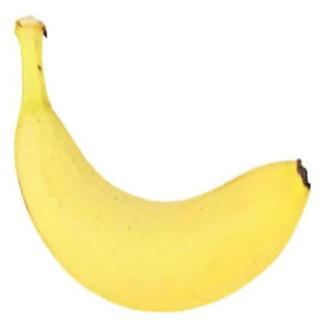banana: (12, 110, 312, 314)
